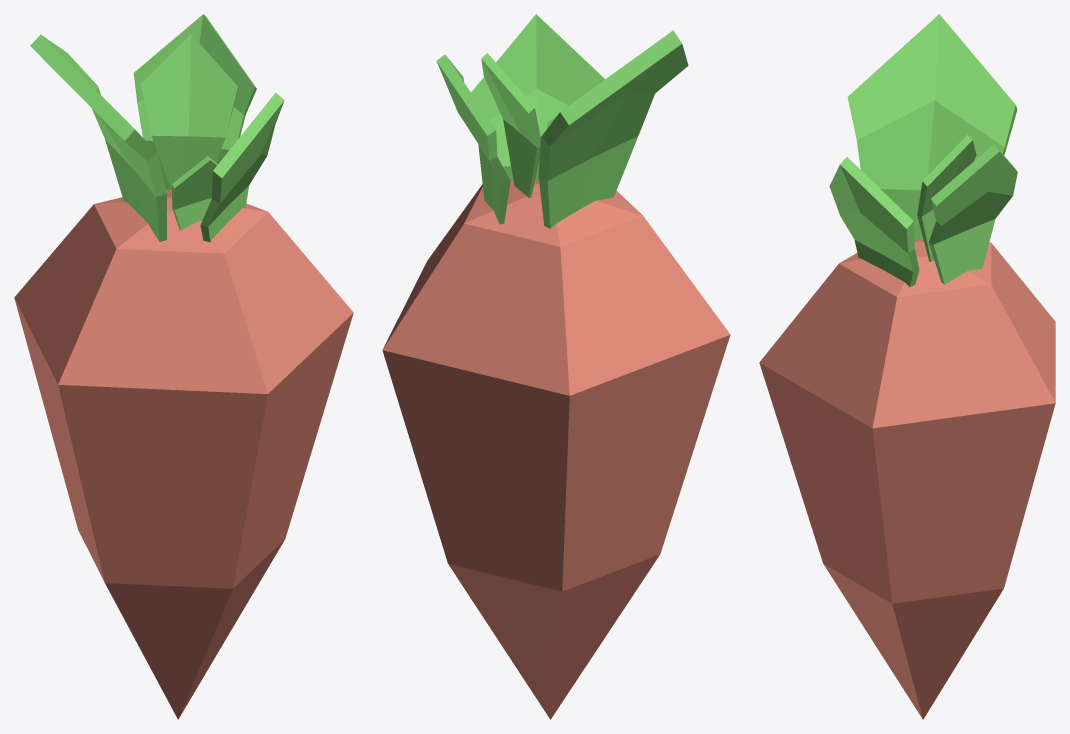
The model's file is carrot.glb.
The picture shows the model from 3 angles, left to right: view 1: azimuth 30°, elevation 25°; view 2: azimuth 150°, elevation 25°; view 3: azimuth 270°, elevation 25°; orthographic projection. The views are drawn at different scales.
Parts seen in each view (by area): view 1: Circle; view 2: Circle; view 3: Circle.
Boxes of the visible parts, box(x1,y1,x2,y2) form: Circle: box(14, 14, 353, 719); Circle: box(382, 14, 730, 719); Circle: box(759, 14, 1055, 719).
Bounding box in the file's own units: 1.83 × 4.21 × 1.74.
